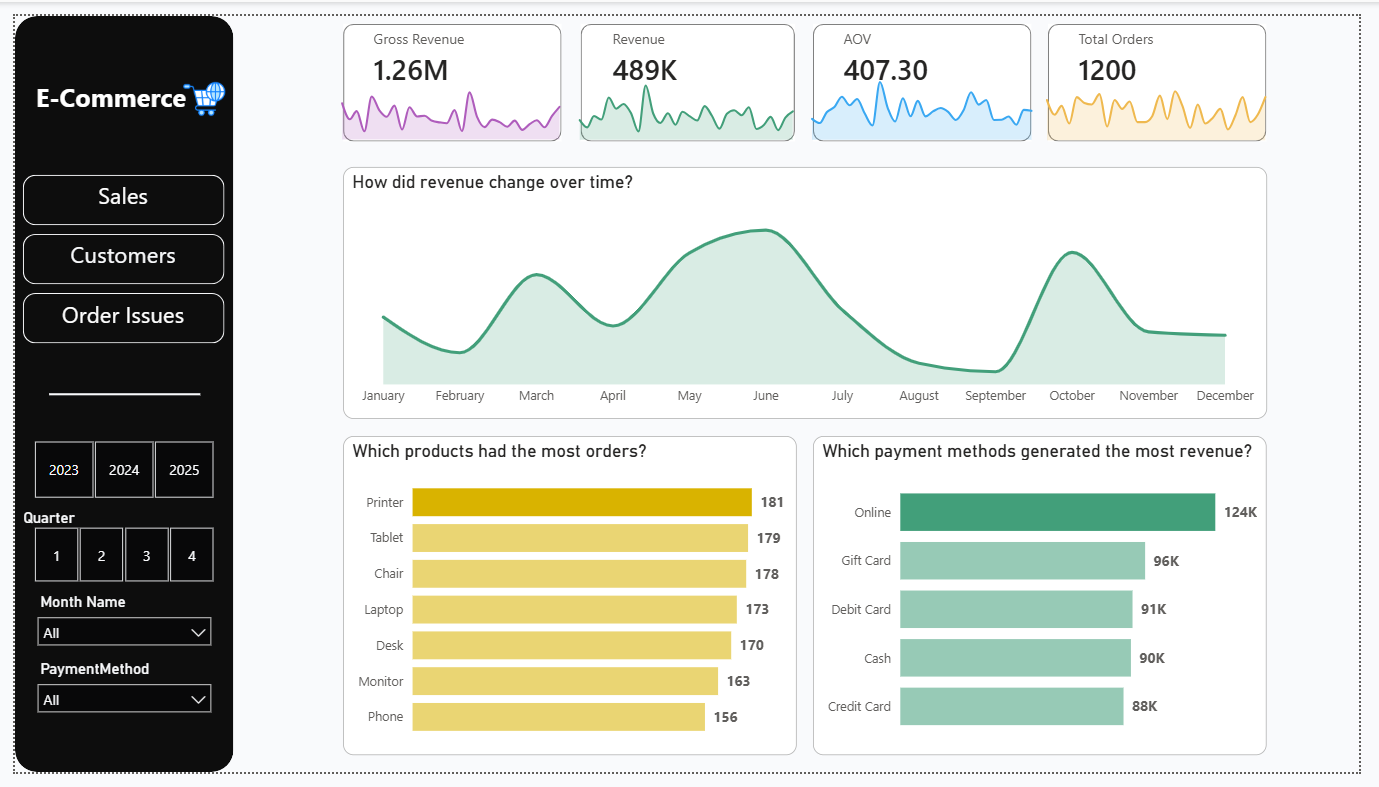

This screenshot's page, from the dashboard's own definition file:
{"tool":"powerbi","page":{"name":"Sales","canvas":[1280,720],"ordinal":0},"visuals":[{"type":"shape","box":[0,0,208,720],"z":0},{"type":"textbox","box":[7.7,55,168,48],"z":0,"group":"g4"},{"type":"image","box":[159.7,55,40,48],"z":1000,"group":"g4"},{"type":"slicer","fields":{"Values":["Date.Year"]},"box":[0,400,208,64],"z":1000},{"type":"slicer","fields":{"Values":["Date.Month Name"]},"box":[16,544,176,64],"z":2000},{"type":"slicer","fields":{"Values":["Date.Quarter"]},"box":[0,464,208,80],"z":3000},{"type":"slicer","fields":{"Values":["Sales.PaymentMethod"]},"box":[16,608,176,64],"z":4000},{"type":"textbox","box":[16,207.3,176,56],"z":4500,"group":"g2"},{"type":"shape","box":[8,207.3,192,48],"z":5000,"group":"g2"},{"type":"shape","box":[32,336,144,48],"z":5000},{"type":"textbox","box":[16,263.3,176,48],"z":5500,"group":"g3"},{"type":"group","id":"g1","title":"Group 1","box":[8,151.3,192,48],"z":6000},{"type":"shape","box":[8,263.3,192,48],"z":6000,"group":"g3"},{"type":"textbox","box":[16,151.3,176,48],"z":6500,"group":"g1"},{"type":"shape","box":[8,151.3,192,48],"z":7000,"group":"g1"},{"type":"group","id":"g2","title":"Group 2","box":[8,207.3,192,56],"z":7000},{"type":"group","id":"g3","title":"Group 3","box":[8,263.3,192,48],"z":8000},{"type":"group","id":"g4","title":"Group 4","box":[7.7,55,192,48],"z":9000},{"type":"group","id":"g5","title":"Group 5","box":[296,0,237,123],"z":10000},{"type":"shape","box":[312,8,208,112],"z":10000,"group":"g5"},{"type":"group","id":"g6","title":"Group 6","box":[522.5,0,233,124],"z":11000},{"type":"shape","box":[760,8,208,112],"z":12000},{"type":"group","id":"g7","title":"Group 7","box":[760,0,184.6,80],"z":13000},{"type":"shape","box":[538.5,8,204,112],"z":13000,"group":"g6"},{"type":"shape","box":[984,8,208,112],"z":14000},{"type":"cardVisual","fields":{"Data":["Calculated.Revenue"]},"box":[540.5,0,176,80],"z":15000,"group":"g6"},{"type":"group","id":"g8","title":"Group 8","box":[984,0,184,80],"z":15000},{"type":"cardVisual","fields":{"Data":["Calculated.AOV"]},"box":[760,0,184.6,80],"z":16000,"group":"g7"},{"type":"lineChart","fields":{"Category":["Date.Date.Variation.Date Hierarchy.Year","Date.Date.Variation.Date Hierarchy.Month"],"Y":["Calculated.AOV"]},"box":[744,48,239,76],"z":16000},{"type":"cardVisual","fields":{"Data":["Calculated.Total Orders"]},"box":[984,0,184,80],"z":17000,"group":"g8"},{"type":"lineChart","fields":{"Category":["Date.Date.Variation.Date Hierarchy.Year","Date.Date.Variation.Date Hierarchy.Month"],"Y":["Calculated.Total Orders"]},"box":[968,48,238,76],"z":17000},{"type":"lineChart","title":"How did revenue change over time?","fields":{"Category":["Date.Month Name"],"Y":["Calculated.Revenue"]},"box":[312,144,880,240],"z":18000},{"type":"cardVisual","fields":{"Data":["Calculated.Gross Revenue"]},"box":[312,0,200,80],"z":19000,"group":"g5"},{"type":"clusteredBarChart","title":"Which products had the most orders?","fields":{"Category":["Sales.Product"],"Y":["Calculated.Total Orders"]},"box":[312,400,432,304],"z":19000},{"type":"lineChart","fields":{"Category":["Date.Date.Variation.Date Hierarchy.Year","Date.Date.Variation.Date Hierarchy.Month"],"Y":["Calculated.Gross Revenue"]},"box":[296,48,237,75],"z":20000,"group":"g5"},{"type":"clusteredBarChart","title":"Which payment methods generated the most revenue?","fields":{"Category":["Sales.PaymentMethod"],"Y":["Calculated.Revenue"]},"box":[760,400,432,304],"z":20000},{"type":"lineChart","fields":{"Category":["Date.Date.Variation.Date Hierarchy.Year","Date.Date.Variation.Date Hierarchy.Month"],"Y":["Calculated.Revenue"]},"box":[522.5,48,233,76],"z":21000,"group":"g6"}]}

Visuals, with their boxes in screenshot pixels (x1, y1, x2, y2), scaled from the page's 1280x720 canvas onto the 1379x787 screenshot:
shape: 0:0:224:786
textbox: 8:60:189:113
image: 172:60:215:113
slicer - Date.Year: 0:437:224:507
slicer - Date.Month Name: 17:595:207:665
slicer - Date.Quarter: 0:507:224:595
slicer - Sales.PaymentMethod: 17:665:207:735
textbox: 17:227:207:288
shape: 9:227:215:279
shape: 34:367:190:420
textbox: 17:288:207:340
"Group 1" group: 9:165:215:218
shape: 9:288:215:340
textbox: 17:165:207:218
shape: 9:165:215:218
"Group 2" group: 9:227:215:288
"Group 3" group: 9:288:215:340
"Group 4" group: 8:60:215:113
"Group 5" group: 319:0:574:134
shape: 336:9:560:131
"Group 6" group: 563:0:814:136
shape: 819:9:1043:131
"Group 7" group: 819:0:1018:87
shape: 580:9:800:131
shape: 1060:9:1284:131
cardVisual - Calculated.Revenue: 582:0:772:87
"Group 8" group: 1060:0:1258:87
cardVisual - Calculated.AOV: 819:0:1018:87
lineChart - Date.Date.Variation.Date Hierarchy.Year x Date.Date.Variation.Date Hierarchy.Month: 802:52:1059:136
cardVisual - Calculated.Total Orders: 1060:0:1258:87
lineChart - Date.Date.Variation.Date Hierarchy.Year x Date.Date.Variation.Date Hierarchy.Month: 1043:52:1299:136
"How did revenue change over time?" lineChart: 336:157:1284:420
cardVisual - Calculated.Gross Revenue: 336:0:552:87
"Which products had the most orders?" clusteredBarChart: 336:437:802:770
lineChart - Date.Date.Variation.Date Hierarchy.Year x Date.Date.Variation.Date Hierarchy.Month: 319:52:574:134
"Which payment methods generated the most revenue?" clusteredBarChart: 819:437:1284:770
lineChart - Date.Date.Variation.Date Hierarchy.Year x Date.Date.Variation.Date Hierarchy.Month: 563:52:814:136
